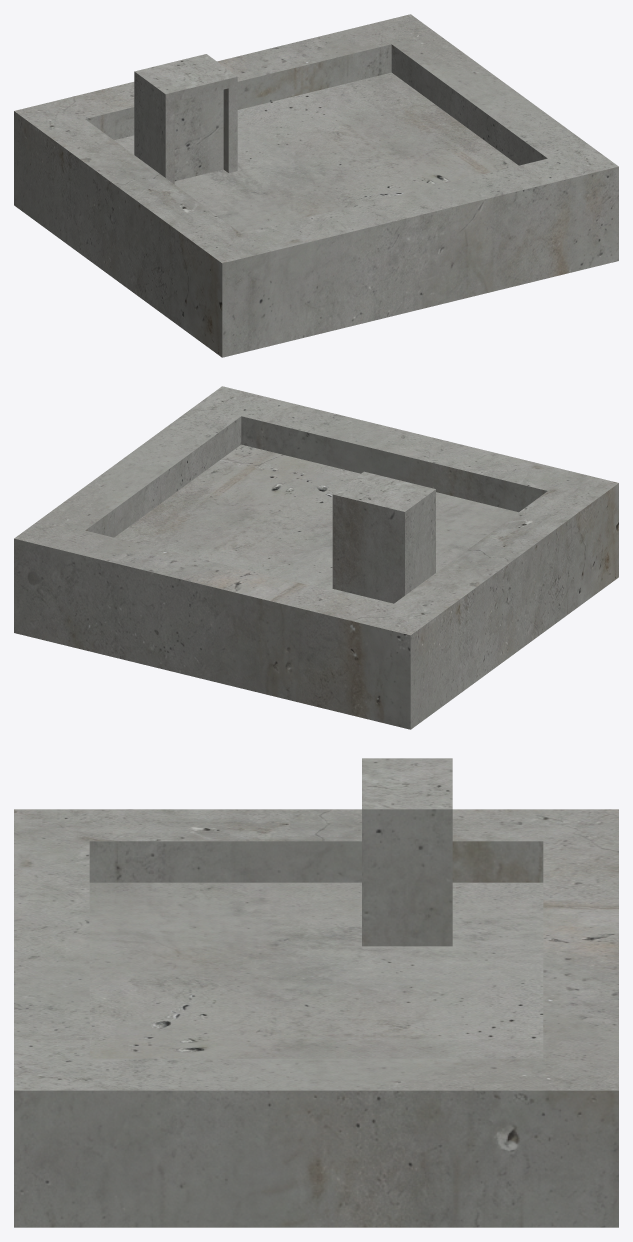
3 renders of one model, top to bottom at view 1: azimuth 30°, elevation 25°; view 2: azimuth 150°, elevation 25°; view 3: azimuth 270°, elevation 25°, orthographic. The views are drawn at different scales.
Parts seen in each view (by area): view 1: 옥상; view 2: 옥상; view 3: 옥상.
Part boxes in pixels (x1,y1,x2,y2): 옥상: [14, 14, 618, 357]; 옥상: [14, 386, 618, 729]; 옥상: [14, 758, 618, 1227].
Bounding box in the file's own units: 220 × 85 × 200.
1 material, 1 textured.
